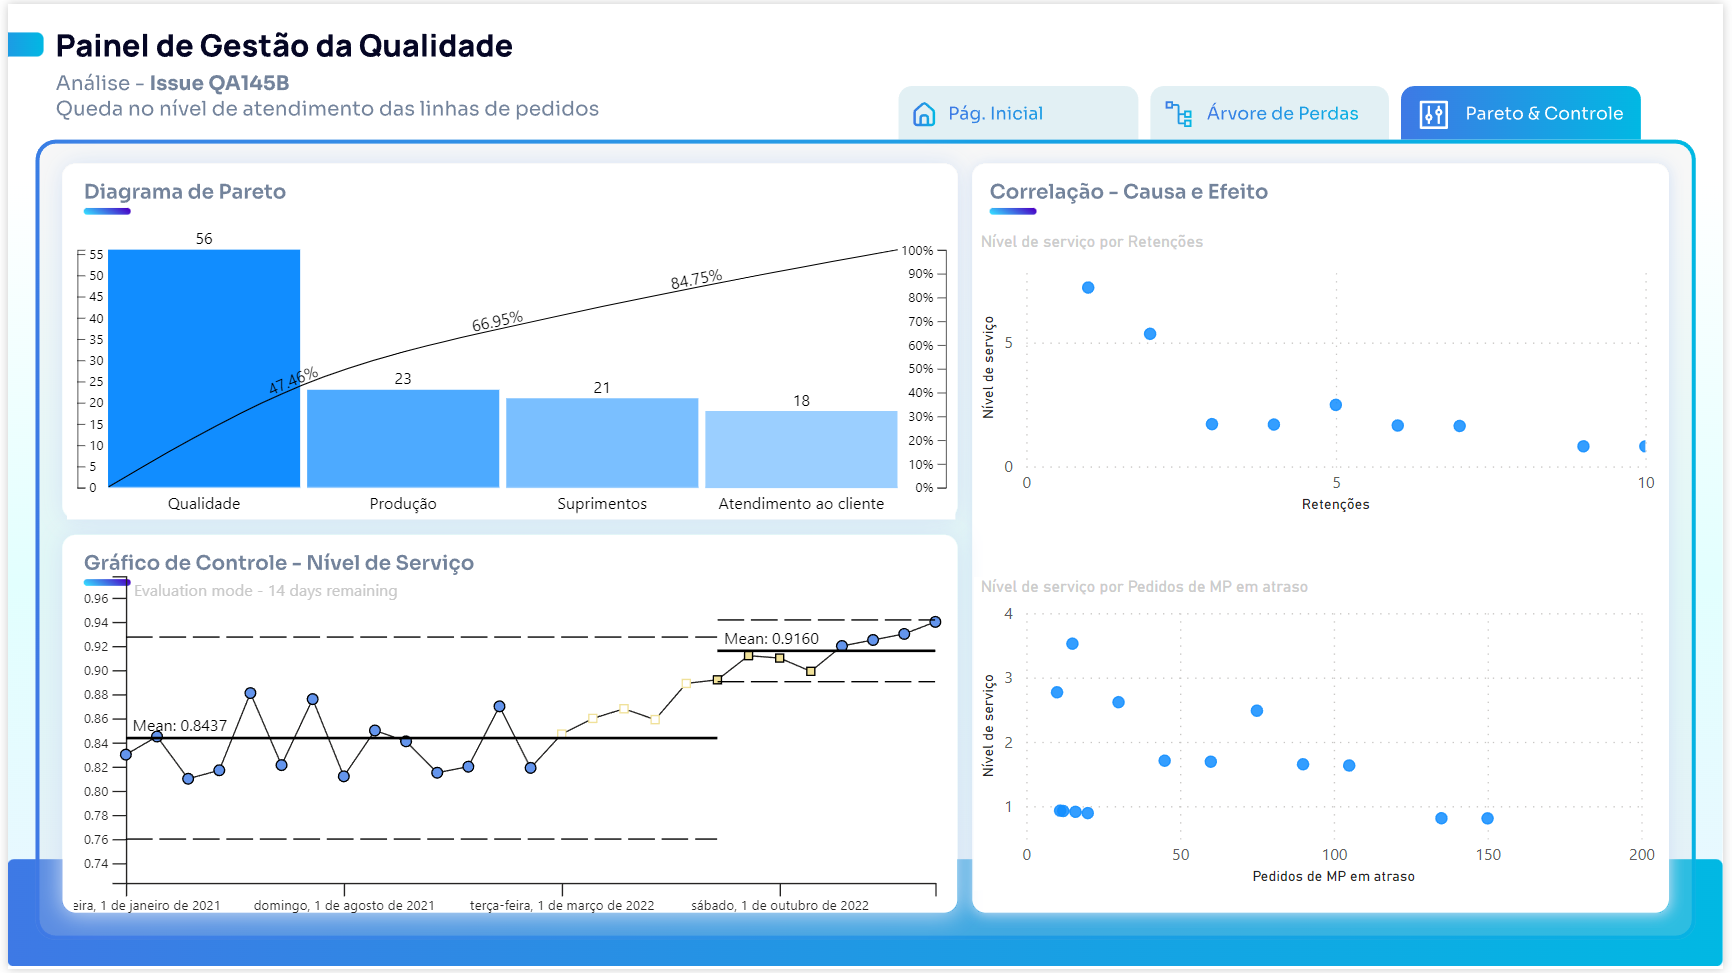

This screenshot's page, from the dashboard's own definition file:
{"tool":"powerbi","page":{"name":"Pareto & controle","canvas":[1280,720],"ordinal":2},"visuals":[{"type":"paretoEDD8E69761BA4B7BB3AA6D813990D7BF","fields":{"paretoValues":["dCliente.Qtd Não Atendido"],"paretoCategories":["dExceptionCode.Exception Code","dExceptionCode.Descrição","dExceptionCode.Categoria"]},"box":[43.8,159.5,663.3,224.7],"z":0},{"type":"scatterChart","fields":{"X":["fNivelServico.Retenções"],"Y":["Sum(fNivelServico.Nível de serviço)"]},"box":[720.6,170,512.8,213.7],"z":1000},{"type":"scatterChart","fields":{"X":["fNivelServico.Pedidos de MP em atraso"],"Y":["Sum(fNivelServico.Nível de serviço)"]},"box":[720.6,427.3,512.8,234.1],"z":2000},{"type":"individuals42E8DF98F1244DB799B2A8A65DBCB226","fields":{"datavalues":["Sum(fNivelServico.Nível de serviço)"],"axis":["fNivelServico.Mês"]},"box":[43.7,411.8,663.3,282.6],"z":3000},{"type":"actionButton","box":[851,61.9,181.2,40.1],"z":3001},{"type":"actionButton","box":[661.8,61.9,181.2,40.1],"z":3002}]}

Visuals, with their boxes in screenshot pixels (x1, y1, x2, y2), scaled from the page's 1280x720 canvas onto the 1732x973 screenshot:
paretoEDD8E69761BA4B7BB3AA6D813990D7BF - dCliente.Qtd Não Atendido x dExceptionCode.Exception Code: [left=59, top=216, right=957, bottom=519]
scatterChart - fNivelServico.Retenções x Sum(fNivelServico.Nível de serviço): [left=975, top=230, right=1669, bottom=519]
scatterChart - fNivelServico.Pedidos de MP em atraso x Sum(fNivelServico.Nível de serviço): [left=975, top=577, right=1669, bottom=894]
individuals42E8DF98F1244DB799B2A8A65DBCB226 - Sum(fNivelServico.Nível de serviço) x fNivelServico.Mês: [left=59, top=557, right=957, bottom=938]
actionButton: [left=1152, top=84, right=1397, bottom=138]
actionButton: [left=895, top=84, right=1141, bottom=138]
